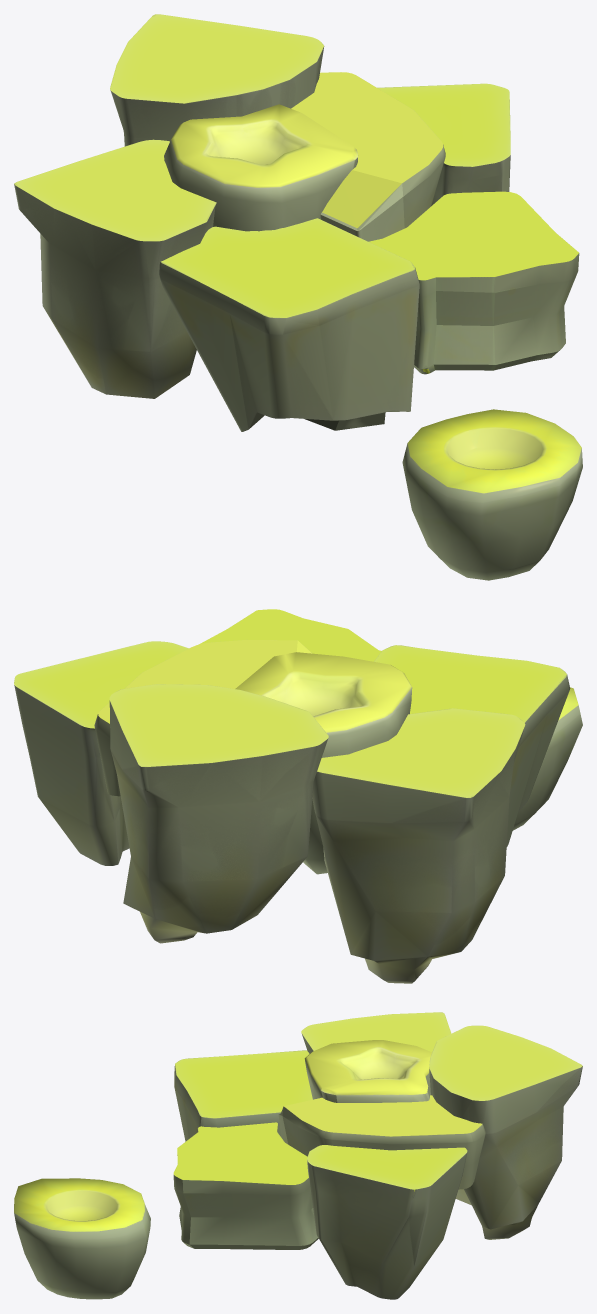
Rendered from NewLand.fbx.
3 renders of one model, top to bottom at view 1: azimuth 30°, elevation 25°; view 2: azimuth 150°, elevation 25°; view 3: azimuth 270°, elevation 25°, orthographic. The views are drawn at different scales.
Visible parts, largest first — view 1: Land_04_low, Land_01_Low1, Land_05_low, Land_7_low, Land_01_Low, Land_06_low, Land_03_Low, Land_02; view 2: Land_01_Low, Land_01_Low1, Land_02, Land_04_low, Land_06_low, Land_03_Low, Land_05_low, Land_7_low; view 3: Land_01_Low, Land_02, Land_05_low, Land_7_low, Land_03_Low, Land_04_low, Land_06_low, Land_01_Low1.
Boxes of the visible parts, <box> form: Land_04_low: <box>159,218,419,431</box>; Land_01_Low1: <box>14,139,216,398</box>; Land_05_low: <box>368,191,579,374</box>; Land_7_low: <box>402,409,582,580</box>; Land_01_Low: <box>110,14,324,146</box>; Land_06_low: <box>164,104,358,231</box>; Land_03_Low: <box>291,72,445,241</box>; Land_02: <box>377,83,510,205</box>; Land_01_Low: <box>109,684,328,943</box>; Land_01_Low1: <box>312,708,525,983</box>; Land_02: <box>14,641,188,865</box>; Land_04_low: <box>374,645,570,846</box>; Land_06_low: <box>235,652,412,874</box>; Land_03_Low: <box>94,640,312,796</box>; Land_05_low: <box>199,609,381,661</box>; Land_7_low: <box>512,687,582,830</box>; Land_01_Low: <box>429,1025,582,1239</box>; Land_02: <box>307,1145,467,1299</box>; Land_05_low: <box>173,1122,318,1249</box>; Land_7_low: <box>14,1178,150,1299</box>; Land_03_Low: <box>278,1095,485,1189</box>; Land_04_low: <box>174,1050,312,1141</box>; Land_06_low: <box>304,1040,431,1102</box>; Land_01_Low1: <box>301,1012,451,1053</box>.
Size of the model in its own units: 3986 by 2415 by 5576.
Materials: 7 (7 with a texture image).
